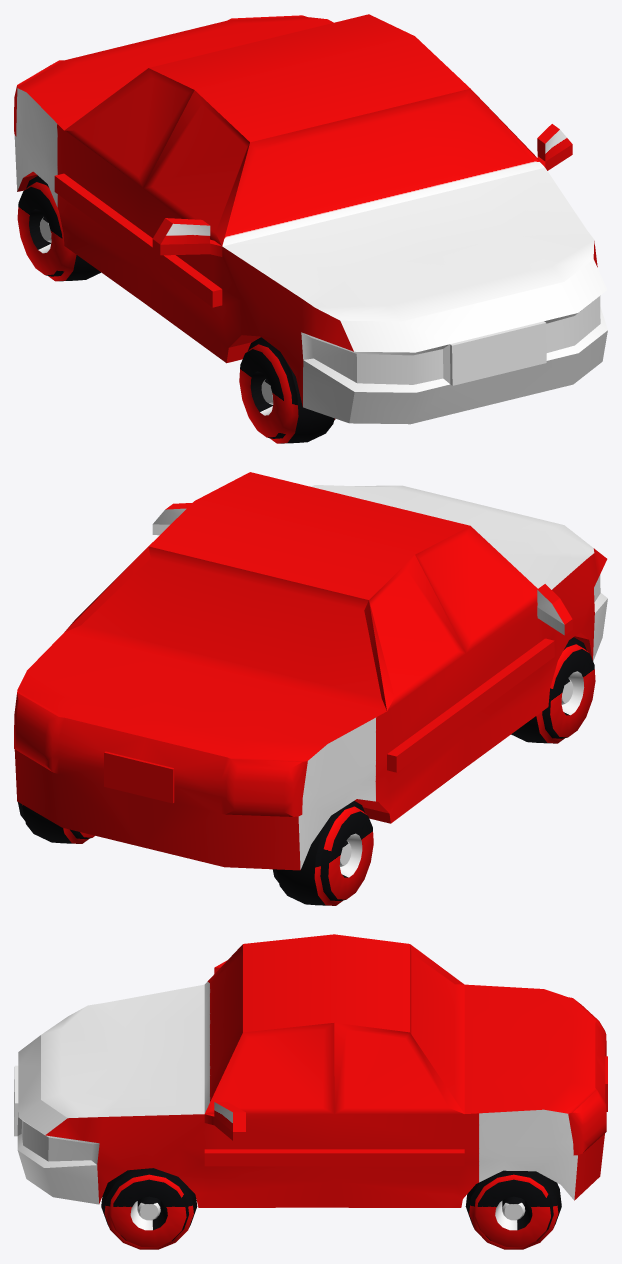
File: taxi.obj
3 renders of one model, top to bottom at view 1: azimuth 30°, elevation 25°; view 2: azimuth 150°, elevation 25°; view 3: azimuth 270°, elevation 25°, orthographic. The views are drawn at different scales.
Visible parts, largest first — view 1: polySurface8 polySurface6, polySurface8 polySurface6 polySurface15 polySurface14, polySurface8 polySurface6 polySurface12; view 2: polySurface8 polySurface6, polySurface8 polySurface6 polySurface12, polySurface8 polySurface6 polySurface15 polySurface14; view 3: polySurface8 polySurface6, polySurface8 polySurface6 polySurface15 polySurface13, polySurface8 polySurface6 polySurface12.
Boxes of the visible parts, x1=… form: polySurface8 polySurface6: x1=14, y1=14, x2=607, y2=424; polySurface8 polySurface6 polySurface15 polySurface14: x1=239, y1=337, x2=335, y2=443; polySurface8 polySurface6 polySurface12: x1=17, y1=176, x2=100, y2=281; polySurface8 polySurface6: x1=14, y1=472, x2=607, y2=870; polySurface8 polySurface6 polySurface12: x1=18, y1=801, x2=373, y2=905; polySurface8 polySurface6 polySurface15 polySurface14: x1=511, y1=637, x2=595, y2=743; polySurface8 polySurface6: x1=14, y1=934, x2=607, y2=1207; polySurface8 polySurface6 polySurface15 polySurface13: x1=101, y1=1168, x2=197, y2=1249; polySurface8 polySurface6 polySurface12: x1=465, y1=1170, x2=561, y2=1249.
Bounding box in the file's own units: 1.42 × 0.8613 × 2.15.
1 material, 1 textured.
